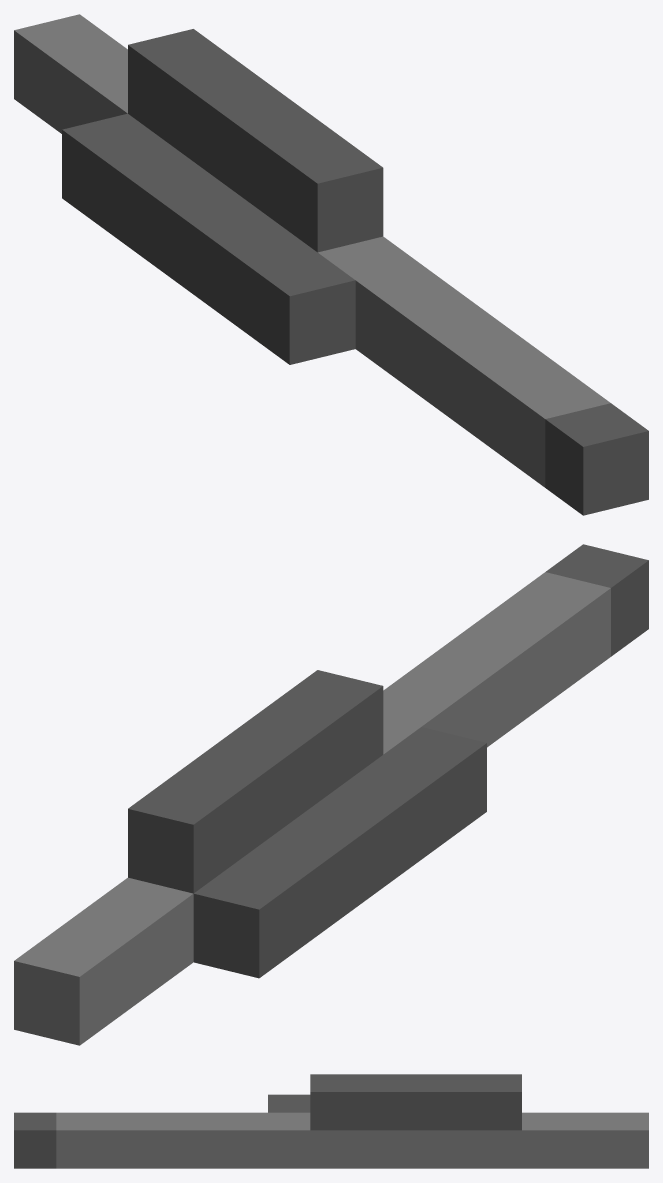
The model's file is CanonXother-10-Warship_Missile1_R.obj.
3 views of the same model, one above another, from view 1: azimuth 30°, elevation 25°; view 2: azimuth 150°, elevation 25°; view 3: azimuth 270°, elevation 25° (orthographic). The views are drawn at different scales.
Parts seen in each view (by area): view 1: Warship_Missile1_R; view 2: Warship_Missile1_R; view 3: Warship_Missile1_R.
Boxes of the visible parts, x1,y1,x2,y2 form: Warship_Missile1_R: (14,14,648,515); Warship_Missile1_R: (14,544,648,1045); Warship_Missile1_R: (14,1074,648,1168).
Bounding box in the file's own units: 0.2 × 0.2 × 1.5.
Materials: 1 (1 with a texture image).
